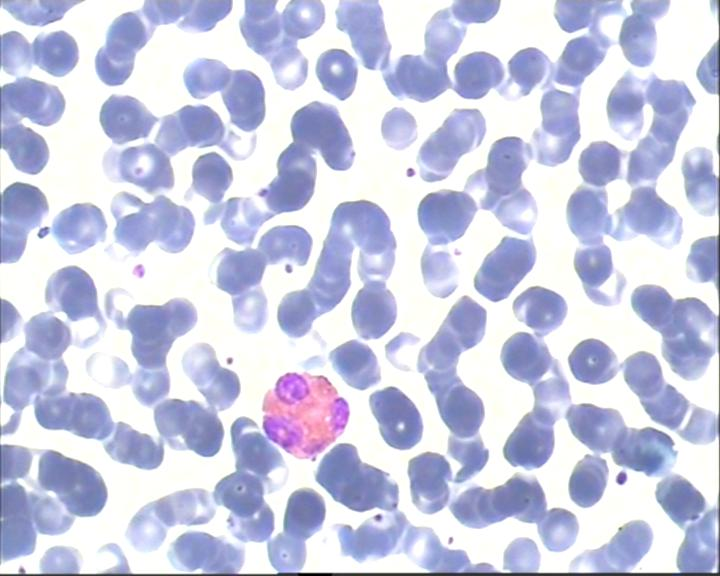eosi: (258, 363, 354, 462)
